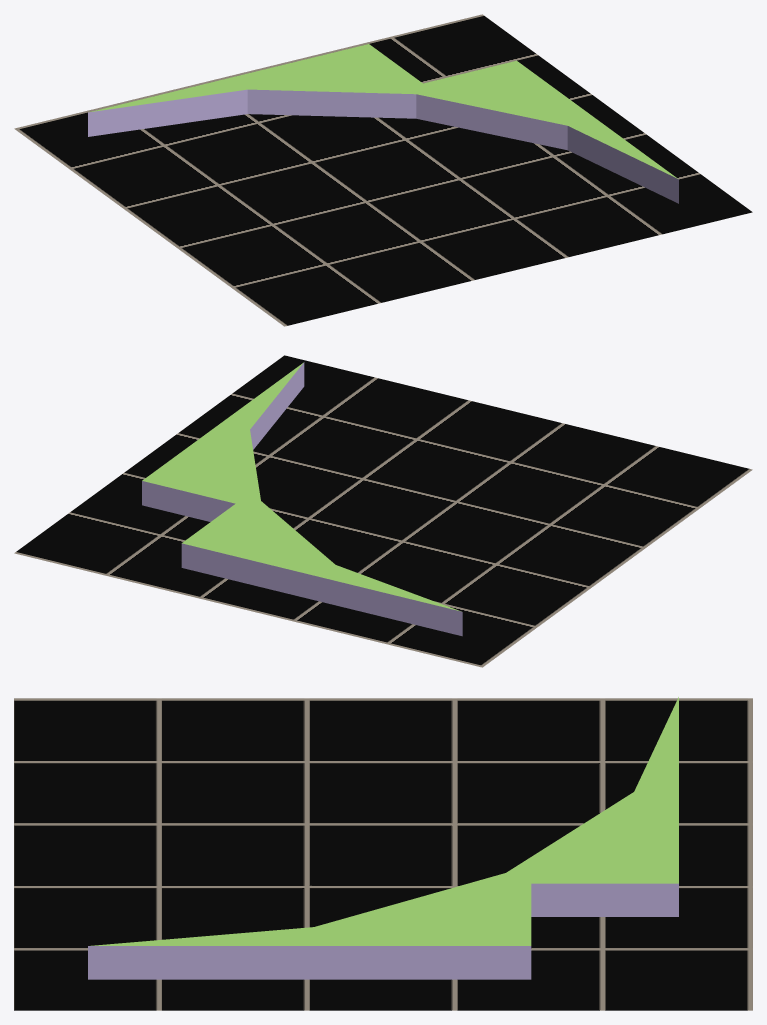
File: Tiered_Grass_Curve_Inner_4x4.glb
3 renders of one model, top to bottom at view 1: azimuth 30°, elevation 25°; view 2: azimuth 150°, elevation 25°; view 3: azimuth 270°, elevation 25°, orthographic. The views are drawn at different scales.
Parts seen in each view (by area): view 1: Floor, Tiered_Grass_Curve_Inner_4x4; view 2: Floor, Tiered_Grass_Curve_Inner_4x4; view 3: Floor, Tiered_Grass_Curve_Inner_4x4.
Boxes of the visible parts, <box> form: Floor: <box>14,14,752,326</box>; Tiered_Grass_Curve_Inner_4x4: <box>88,44,678,203</box>; Floor: <box>14,355,752,667</box>; Tiered_Grass_Curve_Inner_4x4: <box>142,362,462,636</box>; Floor: <box>14,698,752,1010</box>; Tiered_Grass_Curve_Inner_4x4: <box>88,697,678,979</box>.
Size of the model in its own units: 500 by 25 by 500.
Materials: 4 (1 with a texture image).
